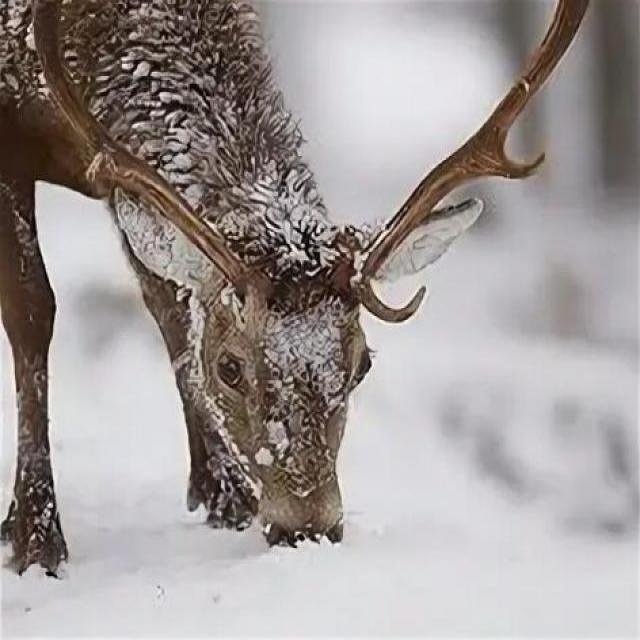deer: (0, 0, 480, 599)
